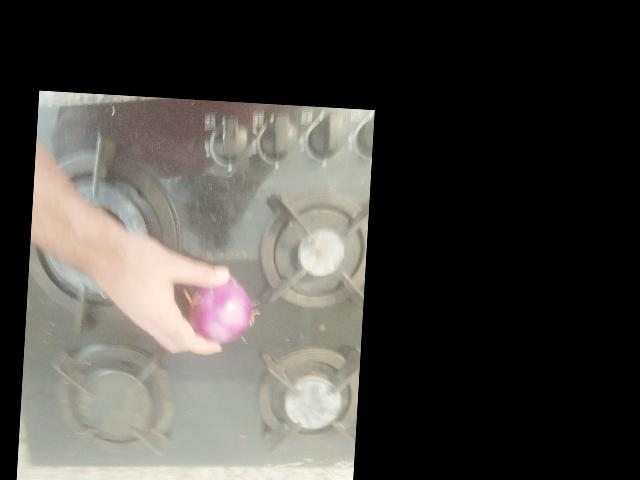onion: (226, 372, 293, 438)
